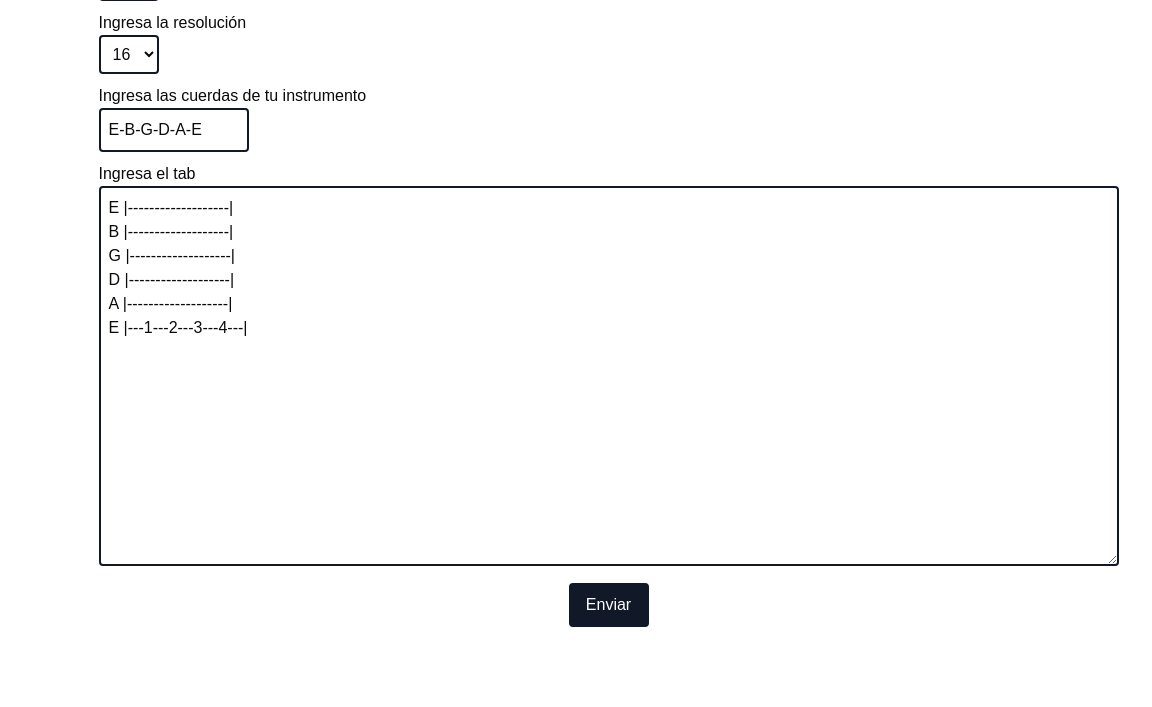
Checks Tab Page › renders the Tab Page errors, success send event and select depending on other select
(page scrolled)
Click the button "Enviar": click(608, 605) x1=568 y1=583 x2=648 y2=627
(page scrolled)
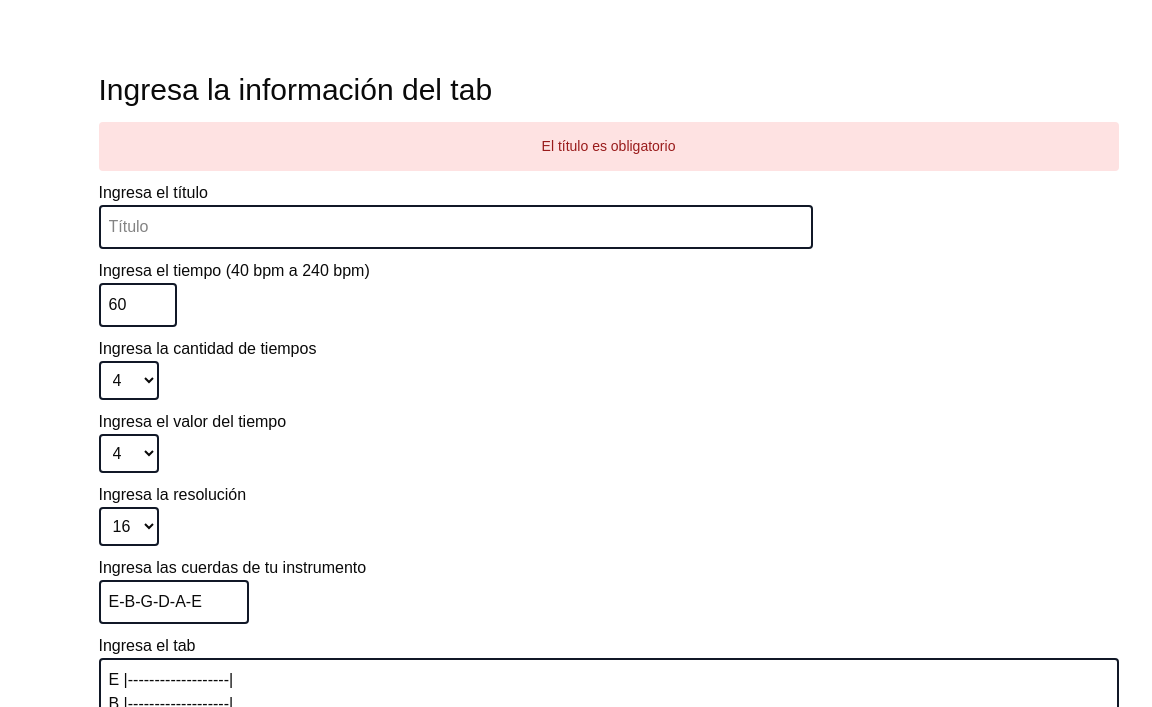
Expected: the text with id "errorMessage" reads "El título es obligatorio", x1=542 y1=138 x2=676 y2=154
In the field with id "tab-title-text": (456, 227) x1=98 y1=205 x2=812 y2=249, type "my first tab"
(page scrolled)
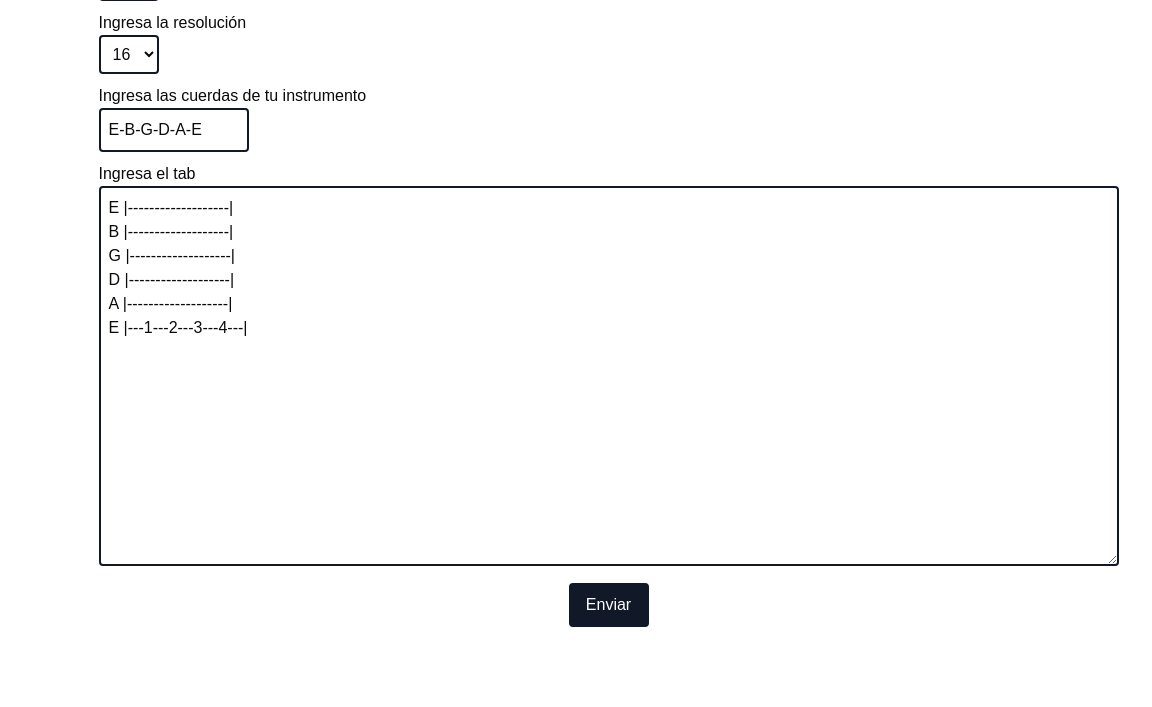
Click the button "Enviar": click(608, 605) x1=568 y1=583 x2=648 y2=627
(page scrolled)
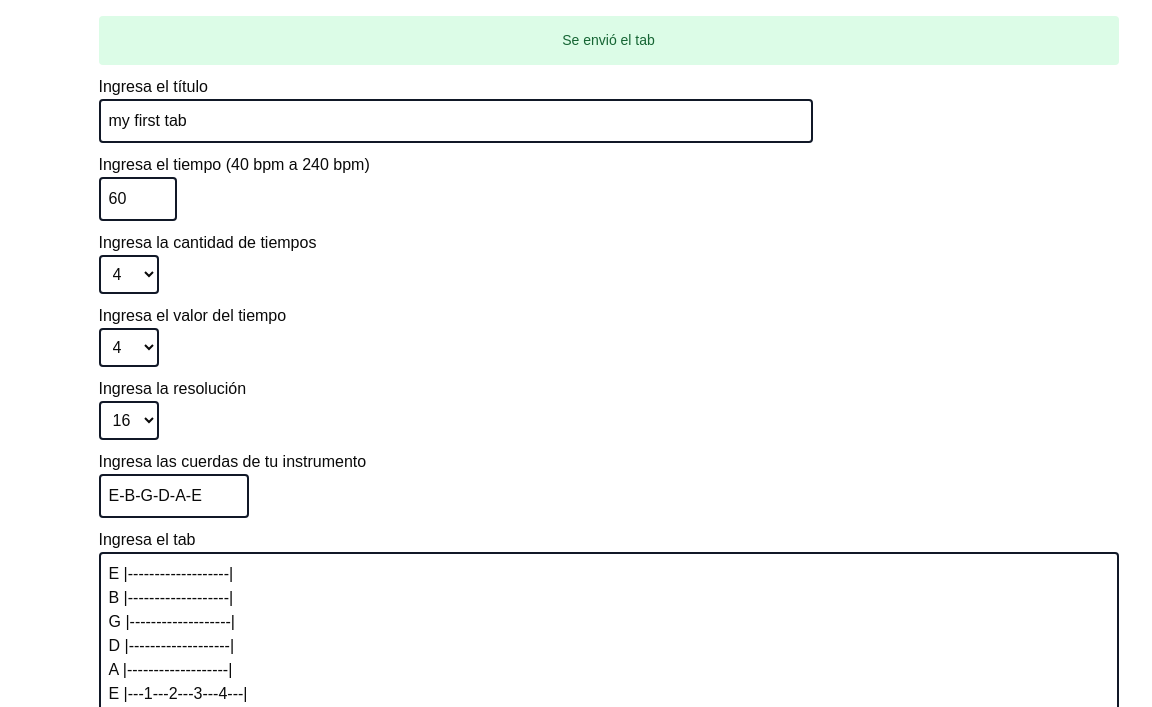
Expected: the text with id "successMessage" reads "Se envió el tab", x1=562 y1=32 x2=655 y2=48
Select "8" in the dropdown with id "time-value-text": (128, 348) x1=98 y1=328 x2=158 y2=367
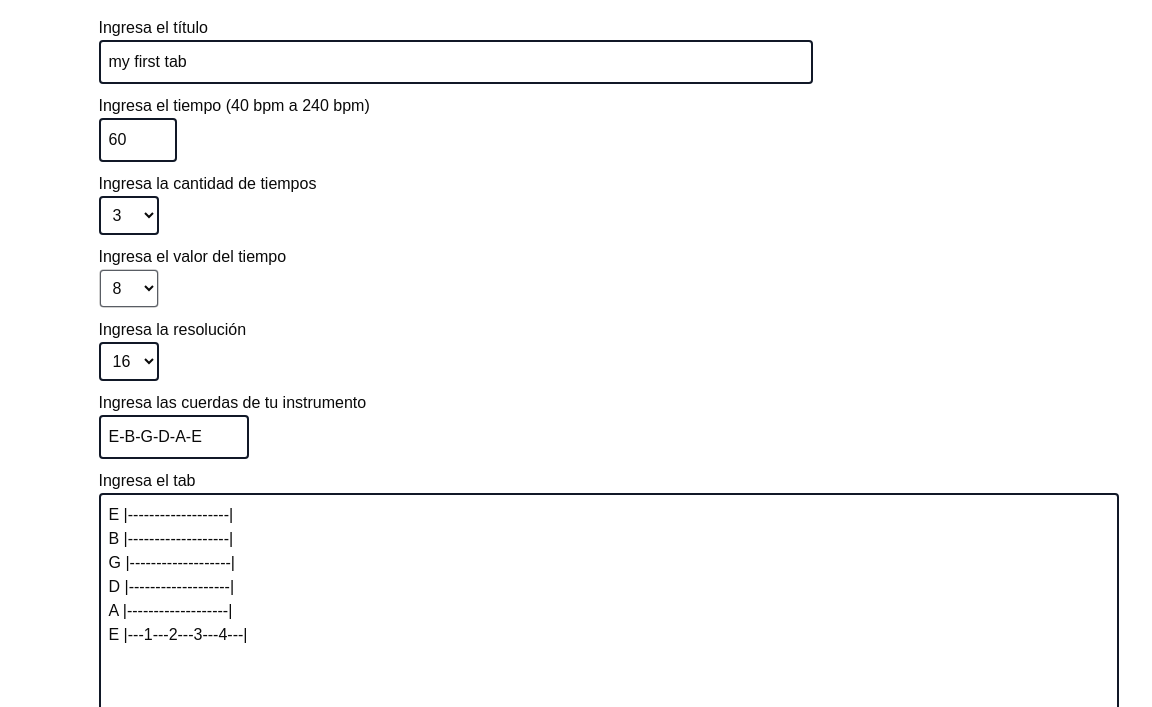
Expected: the dropdown with id "time-beats-text" shows "3", x1=98 y1=196 x2=158 y2=235
